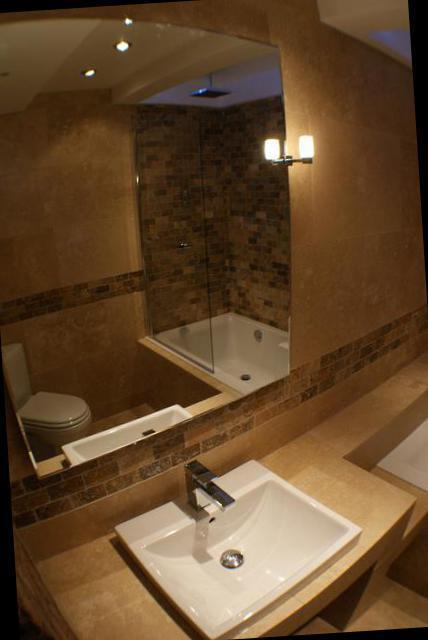Lavamanos: (107, 452, 368, 640), (54, 398, 203, 488)
Sanitario: (1, 331, 93, 441)
